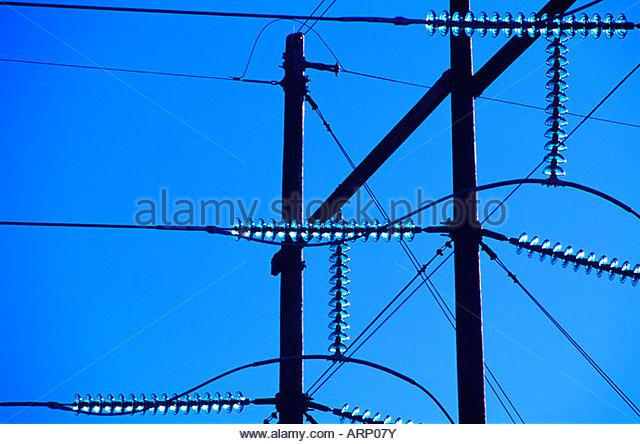isolator: (514, 231, 640, 288), (423, 8, 628, 42), (231, 216, 417, 244), (71, 389, 245, 415), (541, 31, 570, 177), (327, 243, 352, 354), (338, 403, 412, 424)
